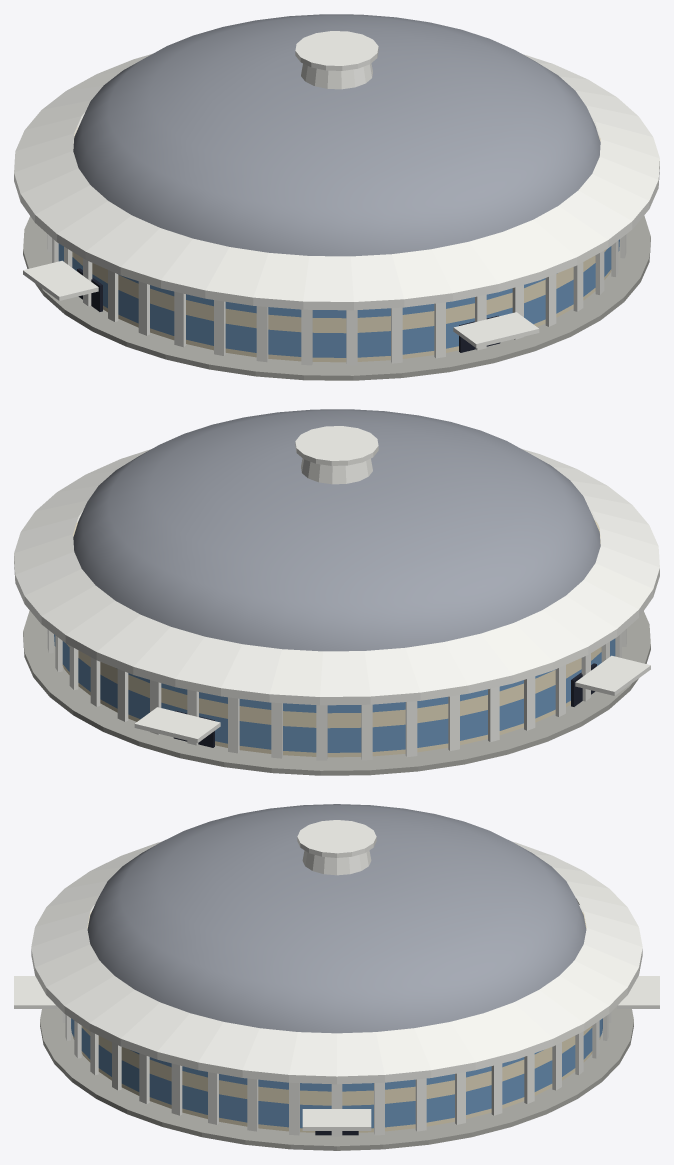
Rendered from env_lm3_stadium_negara.fbx.
The picture shows the model from 3 angles, top to bottom: view 1: azimuth 30°, elevation 25°; view 2: azimuth 150°, elevation 25°; view 3: azimuth 270°, elevation 25°; orthographic projection. The views are drawn at different scales.
Visible parts, largest first — view 1: env_lm3_stadium_negara_geo_LOD0; view 2: env_lm3_stadium_negara_geo_LOD0; view 3: env_lm3_stadium_negara_geo_LOD0.
Boxes of the visible parts, left/top/right/bottom form: env_lm3_stadium_negara_geo_LOD0: left=14, top=14, right=659, bottom=380; env_lm3_stadium_negara_geo_LOD0: left=14, top=409, right=659, bottom=775; env_lm3_stadium_negara_geo_LOD0: left=14, top=804, right=659, bottom=1150.
Size of what is drawn, in the model's own units: 75 by 24.18 by 75.
